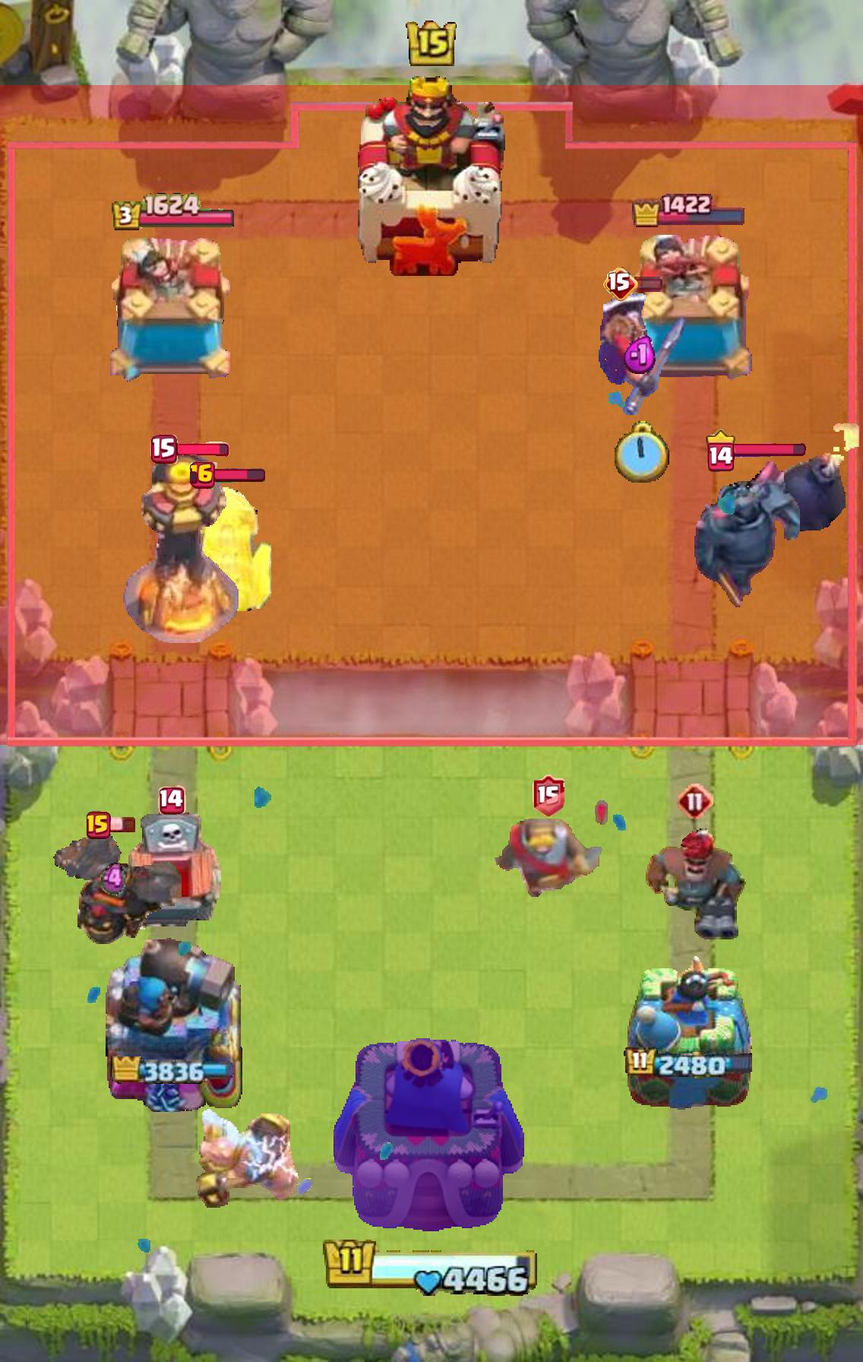bar: (622, 336, 659, 376), (101, 861, 125, 898)
